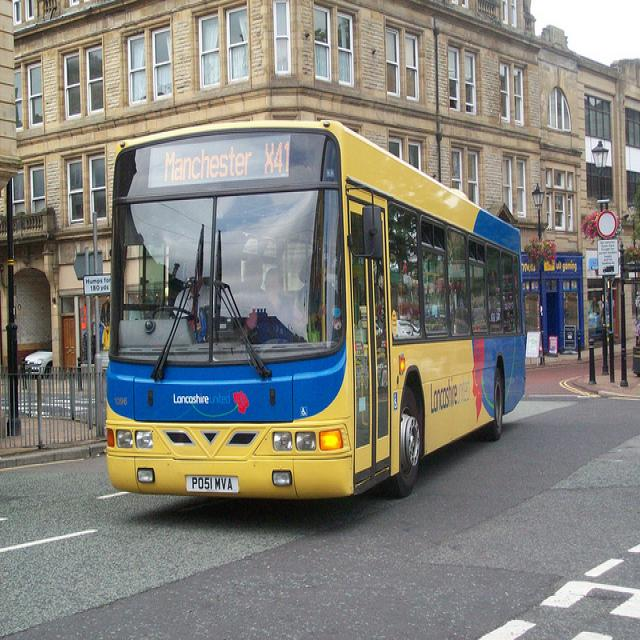Vehicle: (104, 120, 530, 498), (27, 341, 52, 375)
